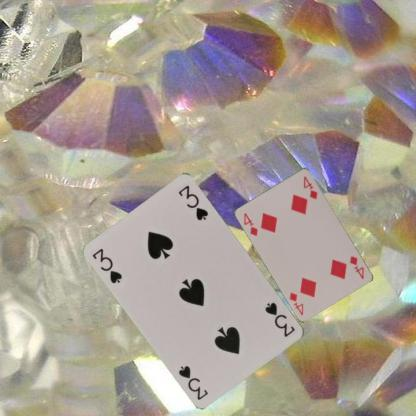3s: (262, 299, 296, 339), (90, 245, 124, 285)
4d: (242, 210, 260, 238), (347, 254, 365, 281)
